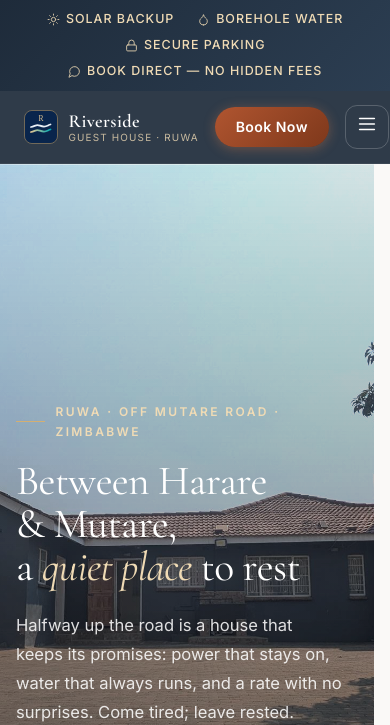
open mobile menu has no axe violations
The width and height of the screenshot is (390, 725).
Click the button named "Open menu".
click(367, 127)  # box [345,105,389,149]
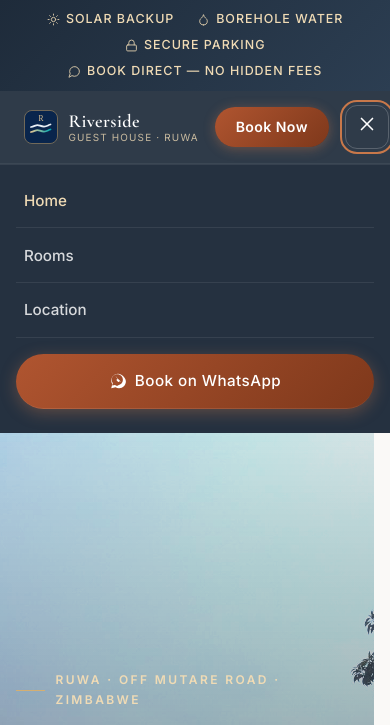
Result: the navigation bar named "Mobile navigation" is shown at [0,164,389,433]
